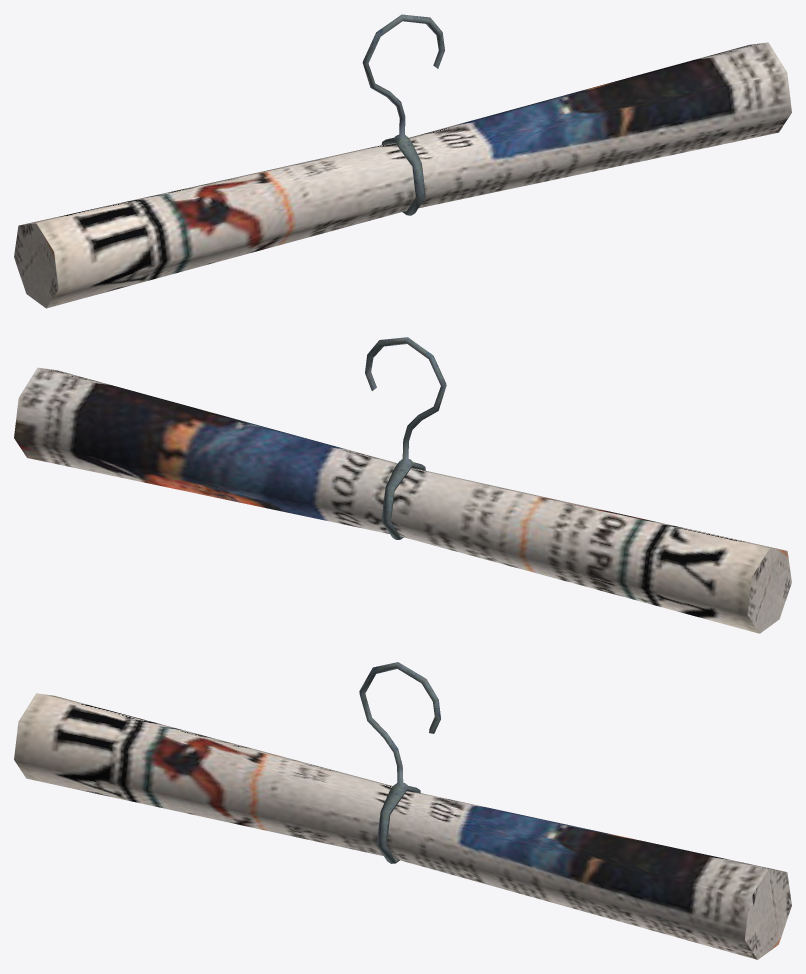
File: M_Home_Garden_Cloth_Hanger02.fbx
3 views of the same model, one above another, from view 1: azimuth 30°, elevation 25°; view 2: azimuth 150°, elevation 25°; view 3: azimuth 330°, elevation 25° (orthographic).
Parts seen in each view (by area): view 1: M_Home_Garden_Cloth_Hanger02; view 2: M_Home_Garden_Cloth_Hanger02; view 3: M_Home_Garden_Cloth_Hanger02.
Part boxes in pixels (x1,y1,x2,y2): M_Home_Garden_Cloth_Hanger02: (14, 14, 791, 308); M_Home_Garden_Cloth_Hanger02: (14, 337, 791, 633); M_Home_Garden_Cloth_Hanger02: (14, 662, 791, 959).
Size of the model in its own units: 51.02 by 13.43 by 5.7.
